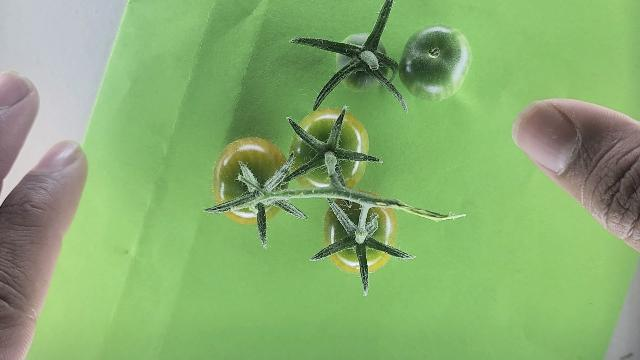Fruit Maturation: (396, 24, 473, 102), (335, 33, 391, 92)
Fully Grown: (288, 105, 369, 191), (213, 136, 291, 224), (323, 192, 398, 275)
